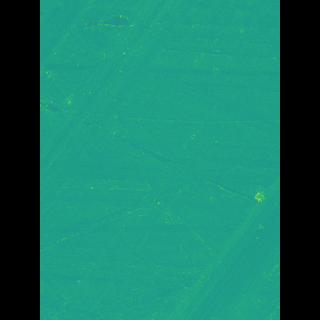Loch: (69, 0, 185, 190), (164, 173, 250, 320)
